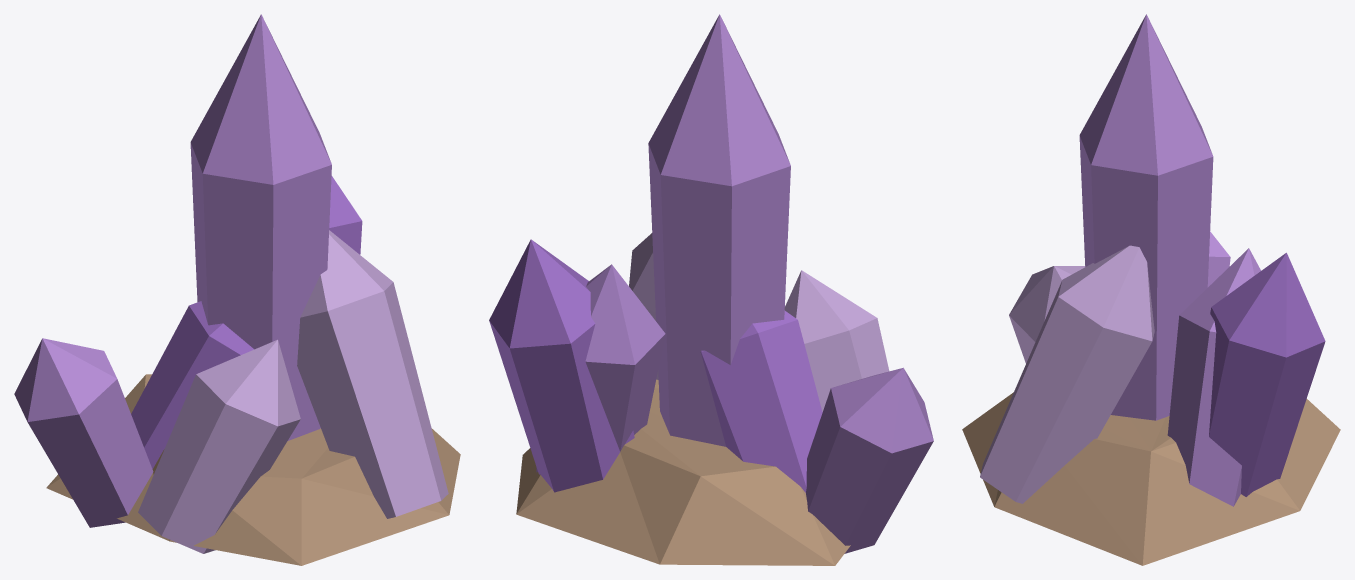
File: tarhut_cristal_2.glb
3 views of the same model, side by side, from view 1: azimuth 30°, elevation 25°; view 2: azimuth 150°, elevation 25°; view 3: azimuth 270°, elevation 25° (orthographic). The views are drawn at different scales.
Visible parts, largest first — view 1: cristal; view 2: cristal; view 3: cristal.
Boxes of the visible parts, x1=… form: cristal: x1=14, y1=14, x2=460, y2=565; cristal: x1=489, y1=14, x2=933, y2=565; cristal: x1=962, y1=14, x2=1340, y2=565.
Size of the model in its own units: 1.52 by 1.68 by 1.25.
